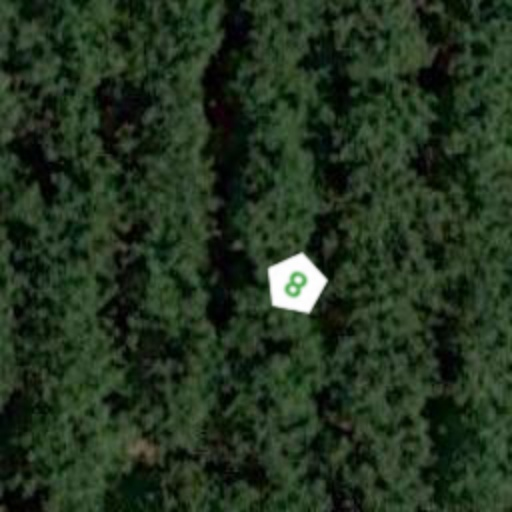pentagon: (250, 238, 342, 330)
